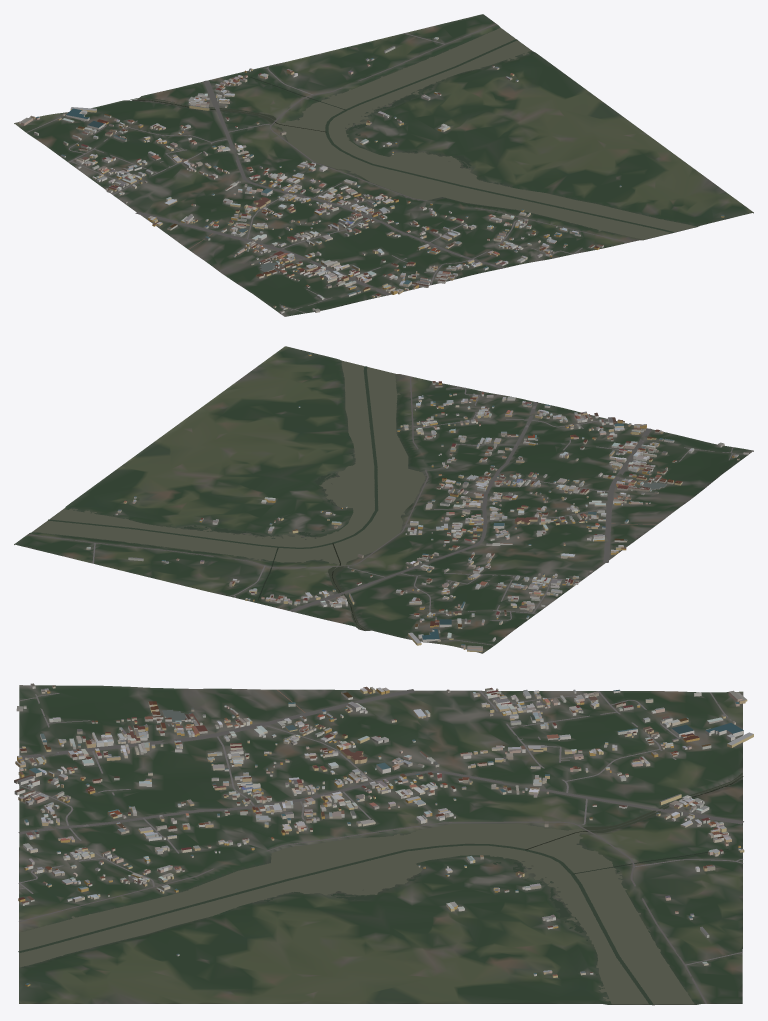
The picture shows the model from 3 angles, top to bottom: view 1: azimuth 30°, elevation 25°; view 2: azimuth 150°, elevation 25°; view 3: azimuth 270°, elevation 25°; orthographic projection. The views are drawn at different scales.
Visible parts, largest first — view 1: ground, water, buildings, roads; view 2: ground, water, buildings, roads; view 3: ground, water, buildings, roads.
Part boxes in pixels (<box>): ground: <box>14,14,753,316</box>; water: <box>130,28,696,239</box>; buildings: <box>18,37,724,313</box>; roads: <box>26,24,628,314</box>; ground: <box>14,346,753,653</box>; water: <box>33,360,425,630</box>; buildings: <box>86,353,748,651</box>; roads: <box>28,376,749,645</box>; ground: <box>19,685,743,1005</box>; water: <box>18,772,743,1004</box>; buildings: <box>14,683,753,986</box>; roads: <box>18,685,743,1003</box>.
Bounding box in the file's own units: 1408 × 37.62 × 1432.
